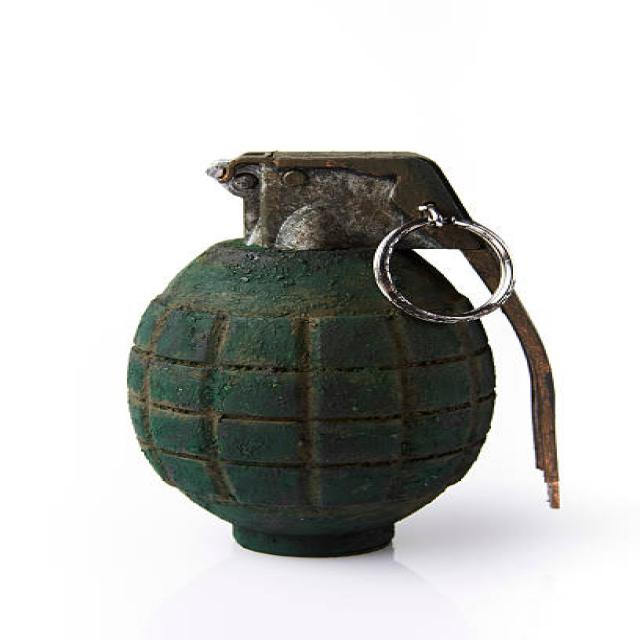grenade: (108, 146, 580, 565)
